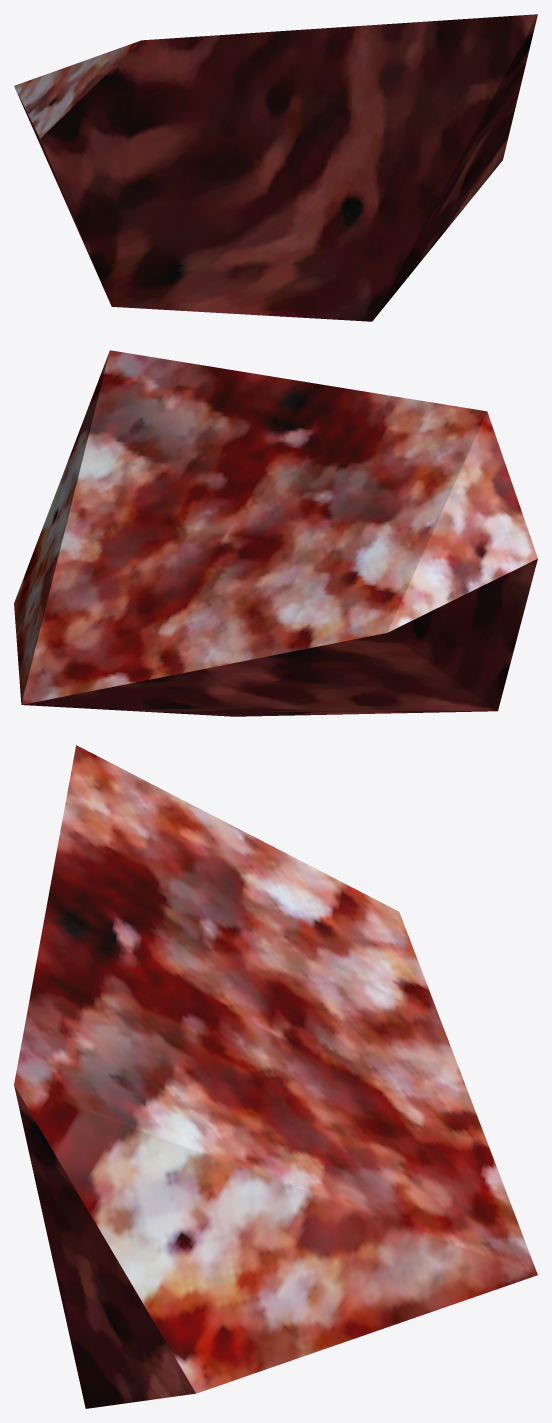
The model's file is WendigoPieceOfFlesh2.fbx.
3 views of the same model, one above another, from view 1: azimuth 30°, elevation 25°; view 2: azimuth 150°, elevation 25°; view 3: azimuth 270°, elevation 25° (orthographic). The views are drawn at different scales.
Parts seen in each view (by area): view 1: PieceOfFlesh2; view 2: PieceOfFlesh2; view 3: PieceOfFlesh2.
Boxes of the visible parts, bbox=[...] form: PieceOfFlesh2: bbox=[14, 14, 537, 321]; PieceOfFlesh2: bbox=[14, 350, 537, 716]; PieceOfFlesh2: bbox=[14, 745, 537, 1408].
Bounding box in the file's own units: 157 × 107 × 102.
